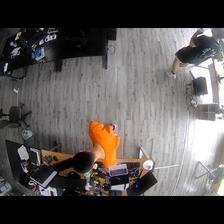normal: (168, 27, 224, 81)
